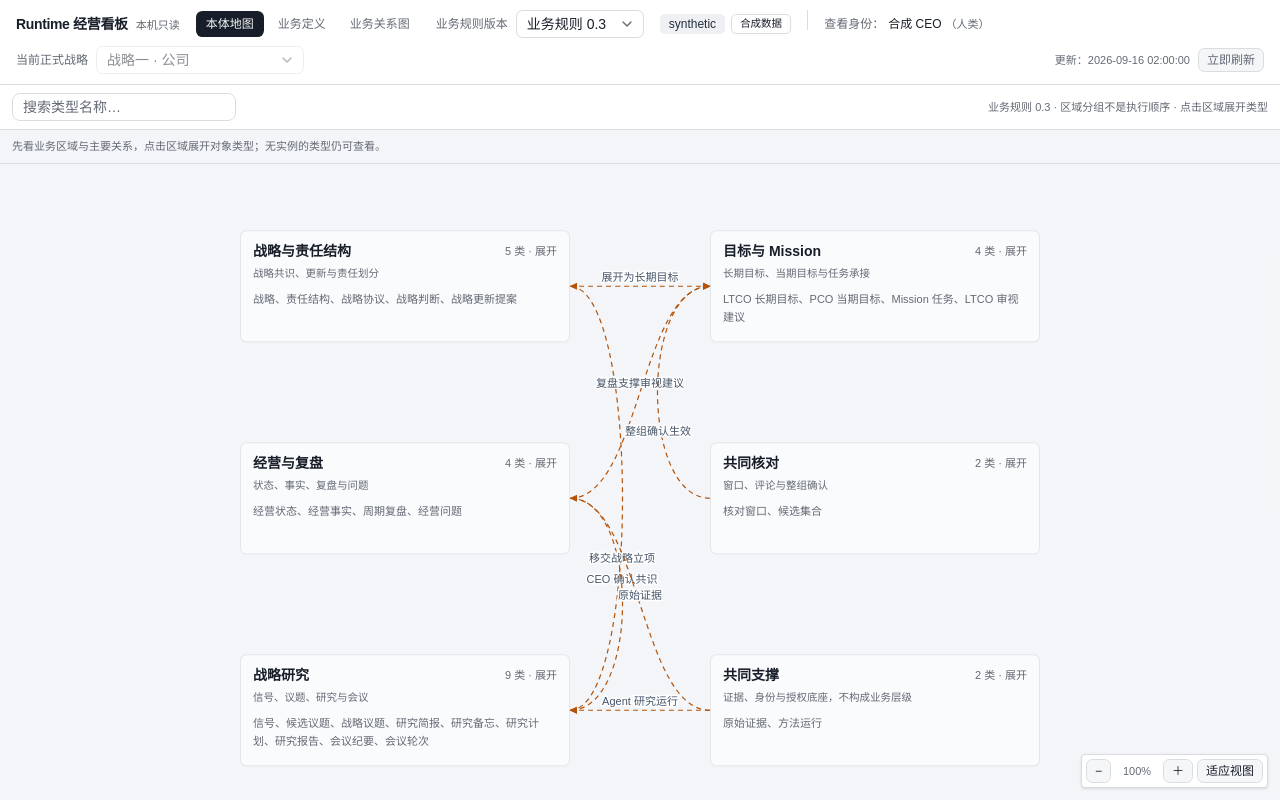
Test case: mobile type-to-record navigation closes the old type sheet
This screenshot has width=1280, height=800.
Step 1. Click the button with test id "map-area-toggle-objectives" → [772, 251], box top-left (711, 231), bottom-right (1039, 292)
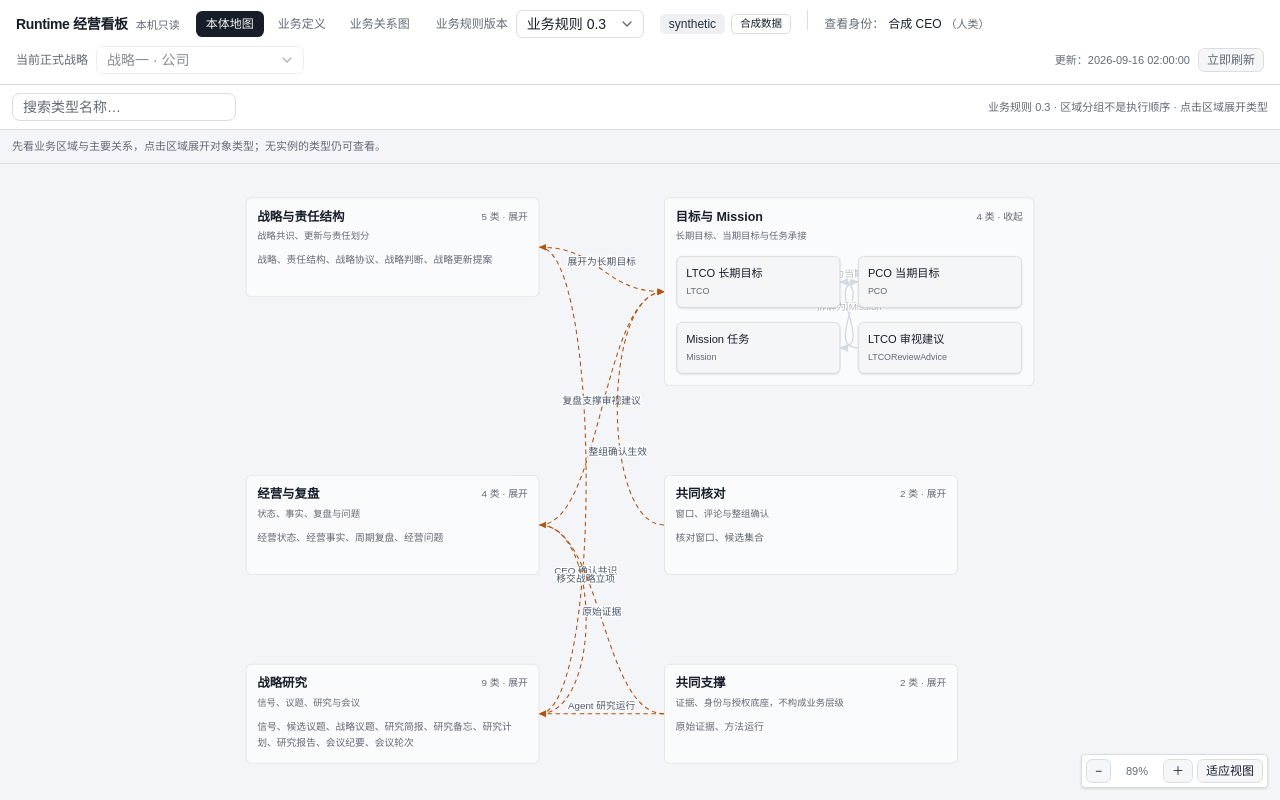
Step 2. Click the button with test id "map-type-Mission" → [758, 347], box top-left (676, 322), bottom-right (840, 373)
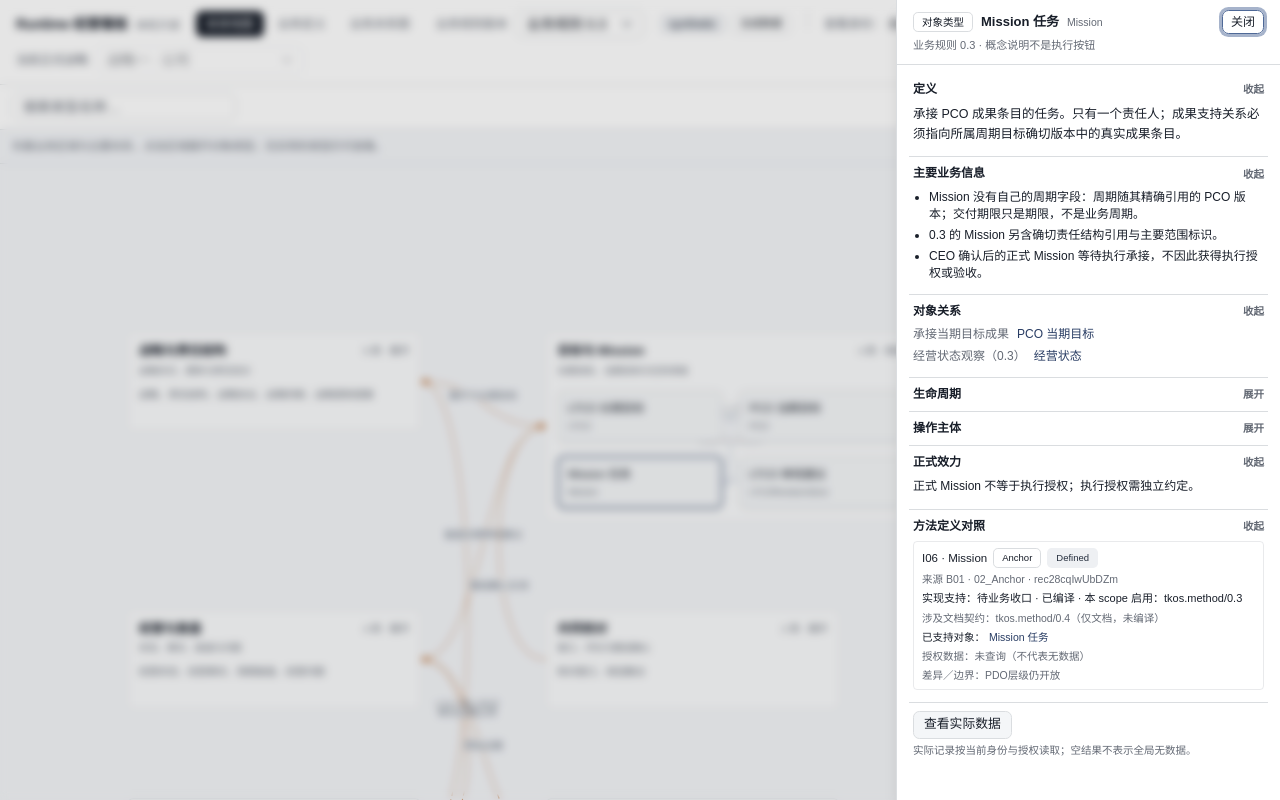
Step 3. Click the button with test id "view-type-data" → [962, 724], box top-left (913, 710), bottom-right (1012, 738)
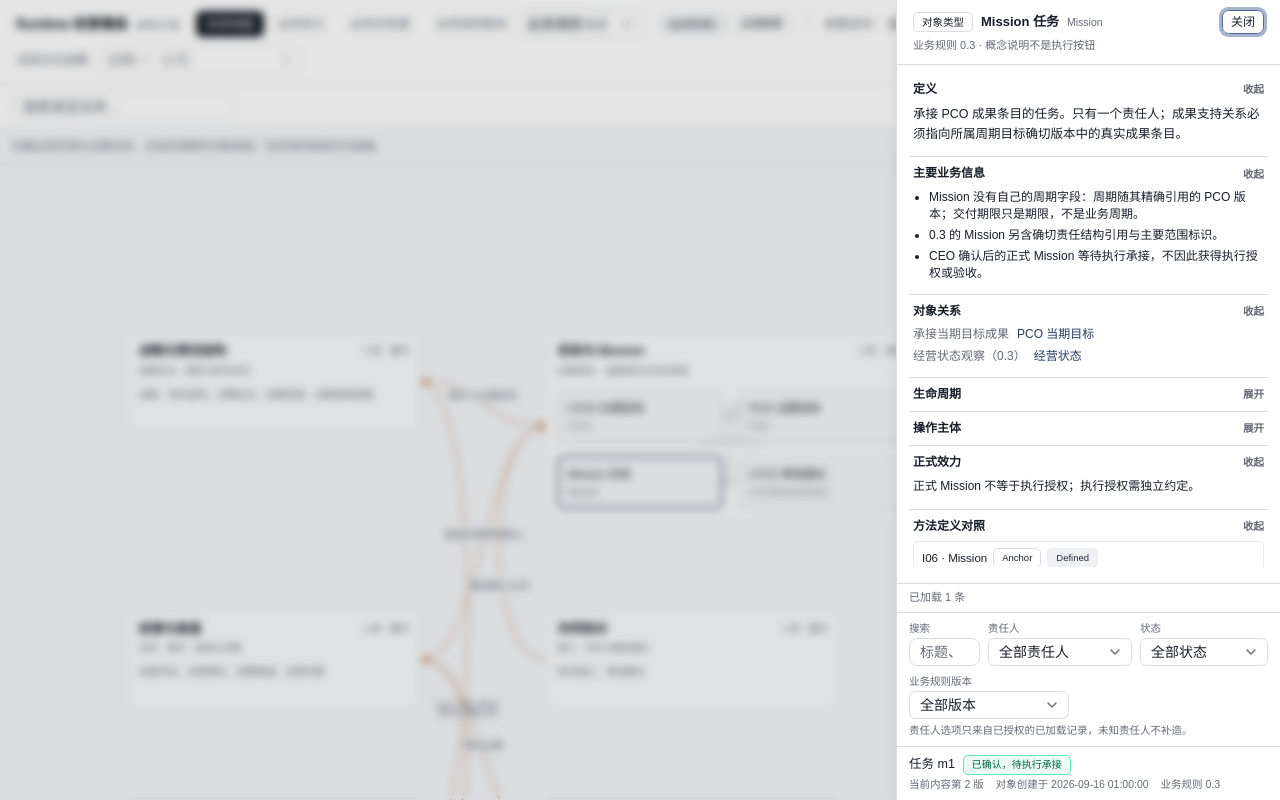
Step 4. Click the button with test id "catalog-row-m1" → [932, 764], box top-left (897, 747), bottom-right (1279, 799)
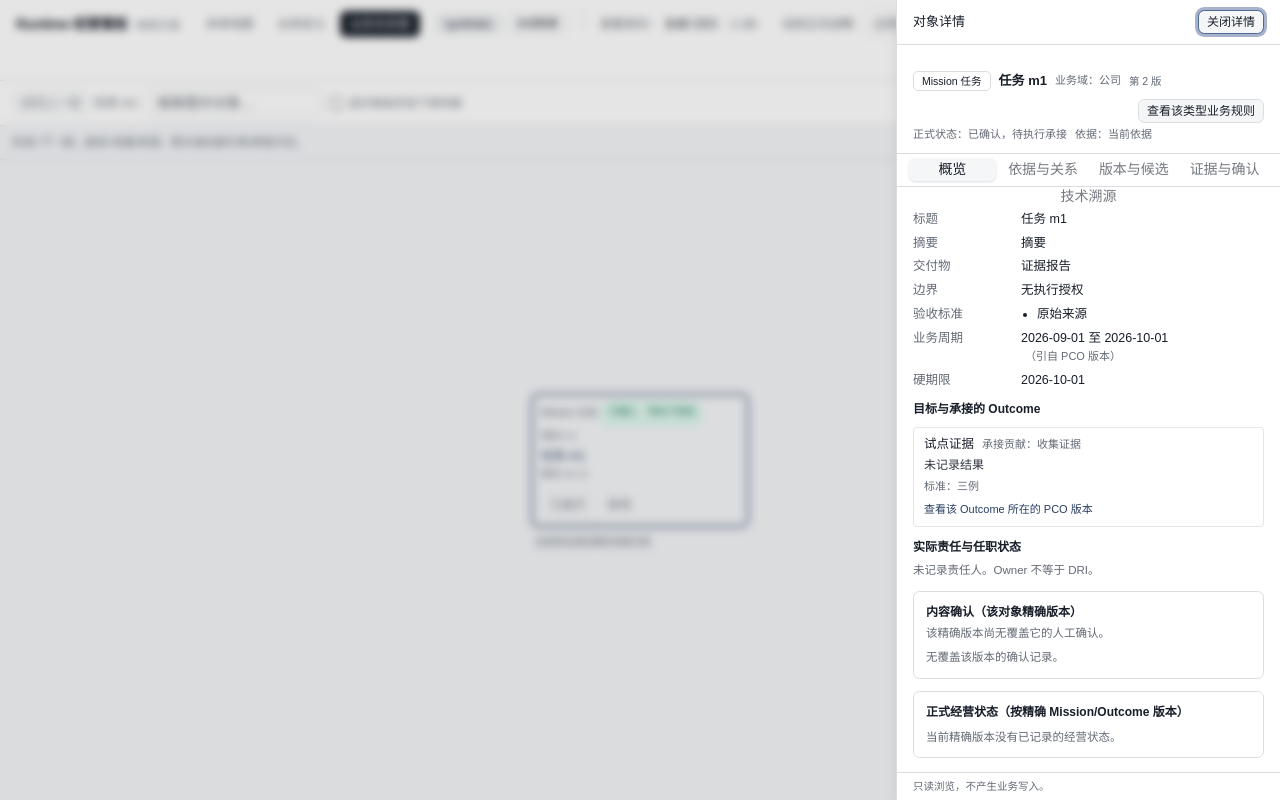
Check: the element with test id "detail-pane" is shown, box top-left (897, 61), bottom-right (1279, 799)
Check: the number of dialogs is 1, box top-left (896, 0), bottom-right (1279, 799)
Check: the element with test id "type-info-card" is gone
